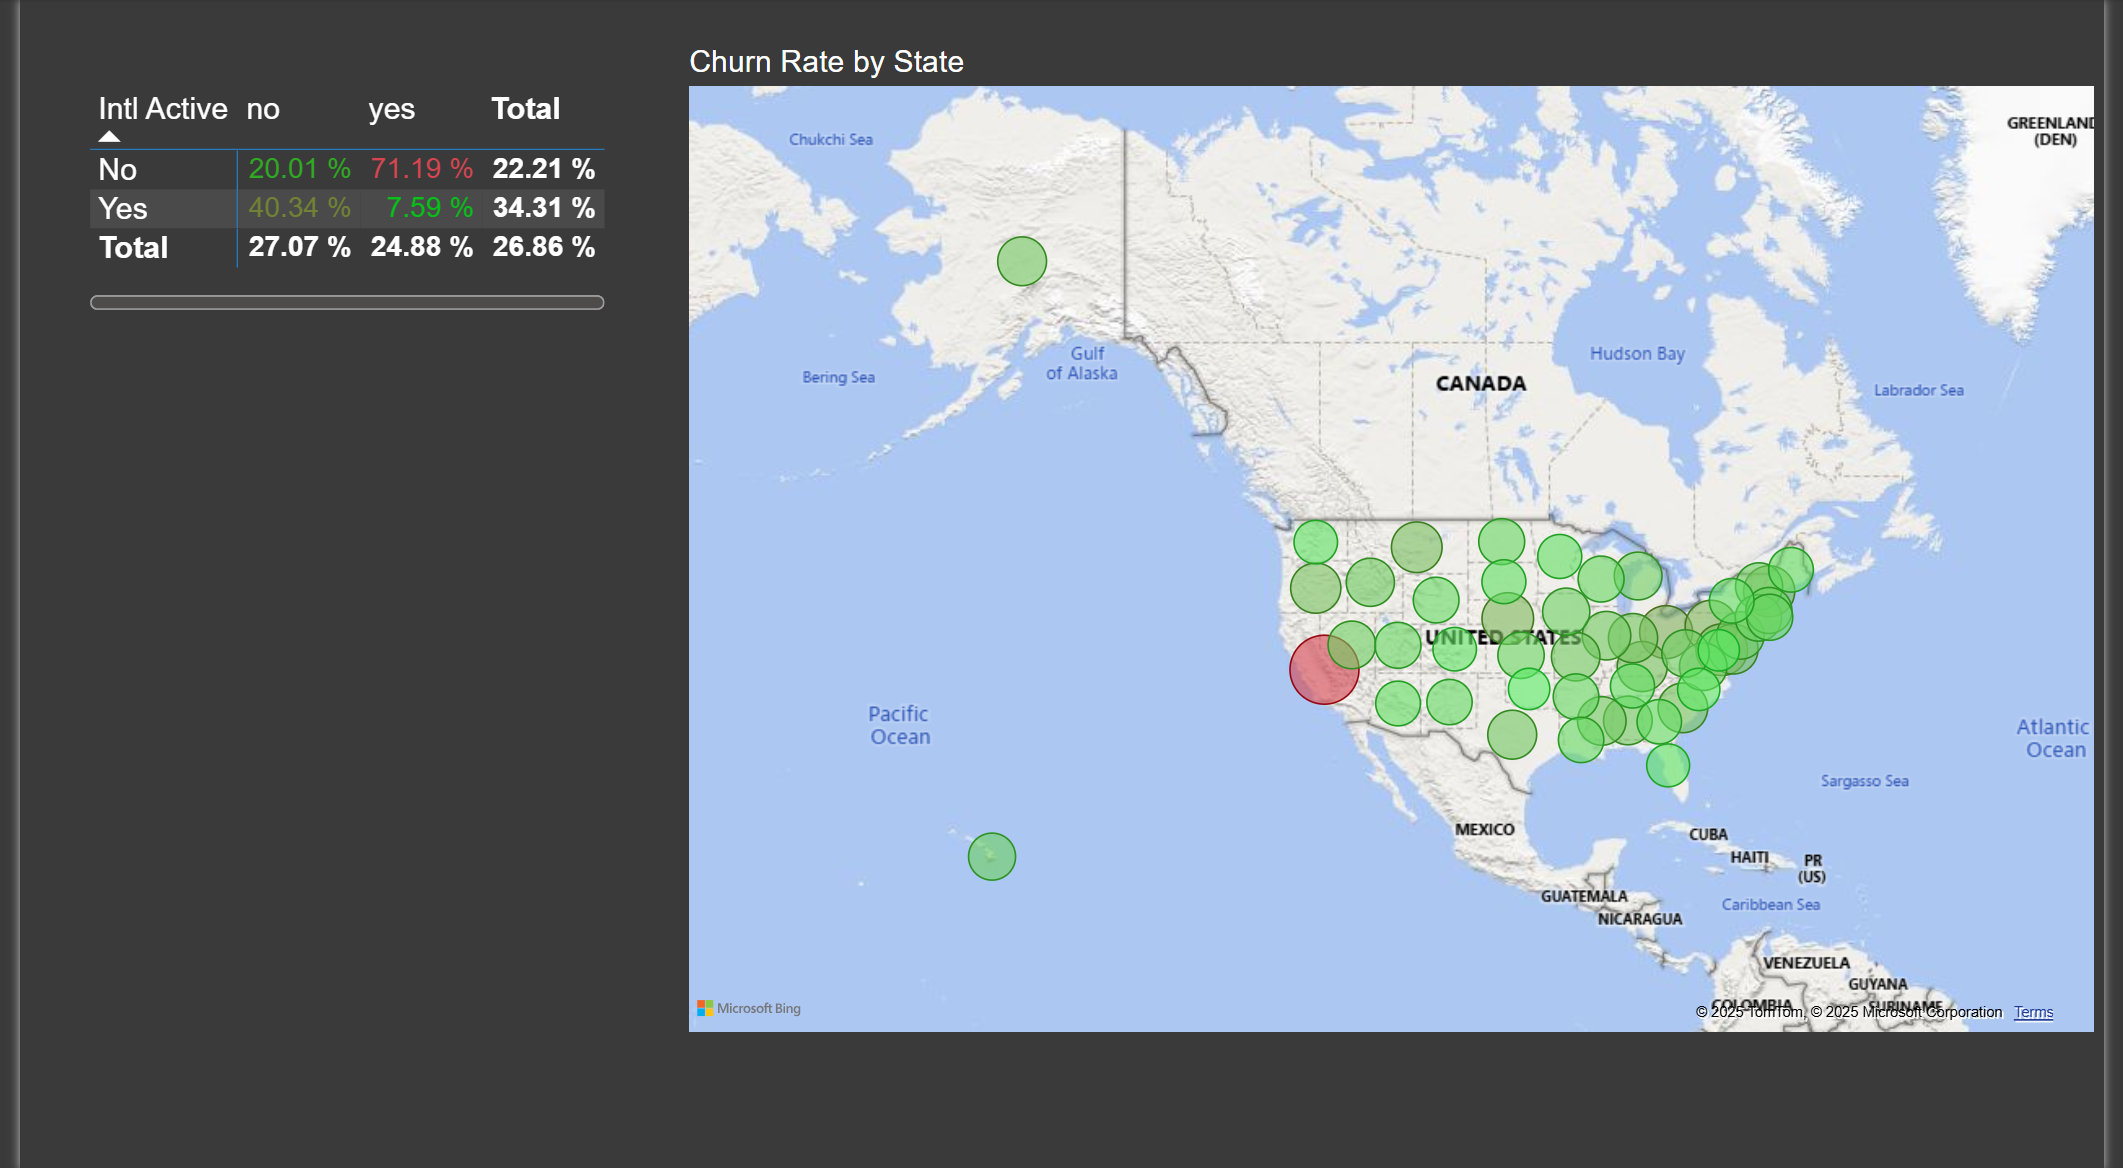

The dashboard page shown, as its layout file describes it:
{"tool":"powerbi","page":{"name":"International Calls","canvas":[1280,720],"ordinal":3},"visuals":[{"type":"pivotTable","fields":{"Rows":["Databel - Data.Intl Active"],"Values":["Databel - Data.Churn Rate"],"Columns":["Databel - Data.Intl Plan"]},"box":[38,51.1,325.7,144.6],"z":0},{"type":"map","fields":{"Category":["Databel - Data.State"],"Size":["Databel - Data.Churn Rate"]},"box":[406,27.7,873.3,611.9],"z":1000}]}

Visuals, with their boxes in screenshot pixels (x1, y1, x2, y2), scaled from the page's 1280x720 canvas onto the 2123x1168 screenshot:
pivotTable - Databel - Data.Intl Active x Databel - Data.Churn Rate: crop(63, 83, 603, 317)
map - Databel - Data.State x Databel - Data.Churn Rate: crop(673, 45, 2122, 1038)
